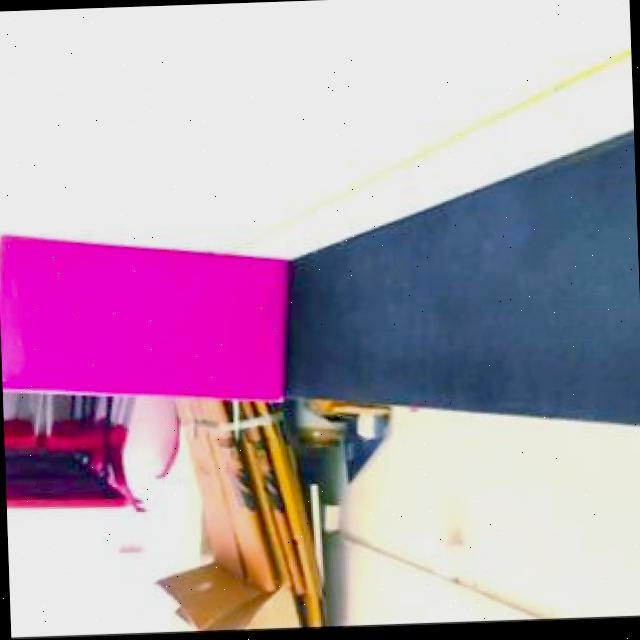xparking: (0, 225, 291, 412)
